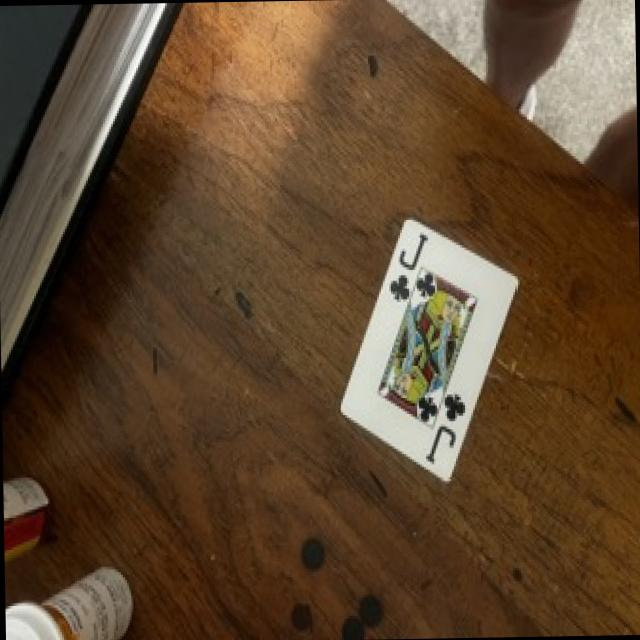Jack of clubs: (341, 220, 516, 479)
